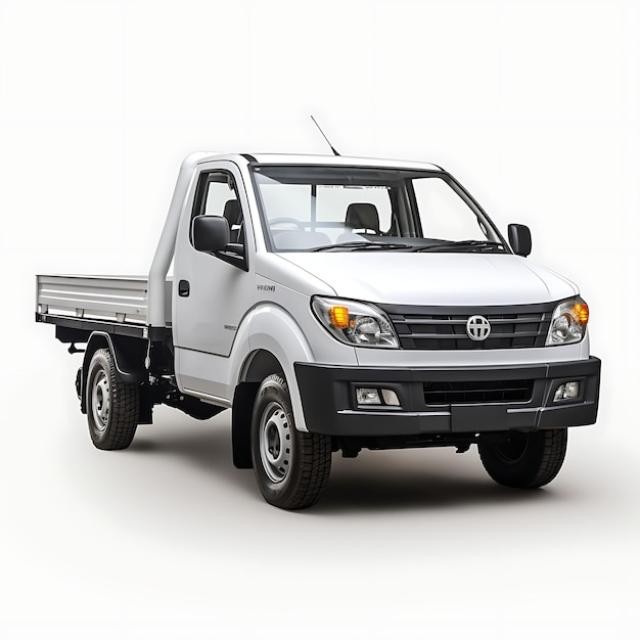truck: (36, 152, 600, 509)
